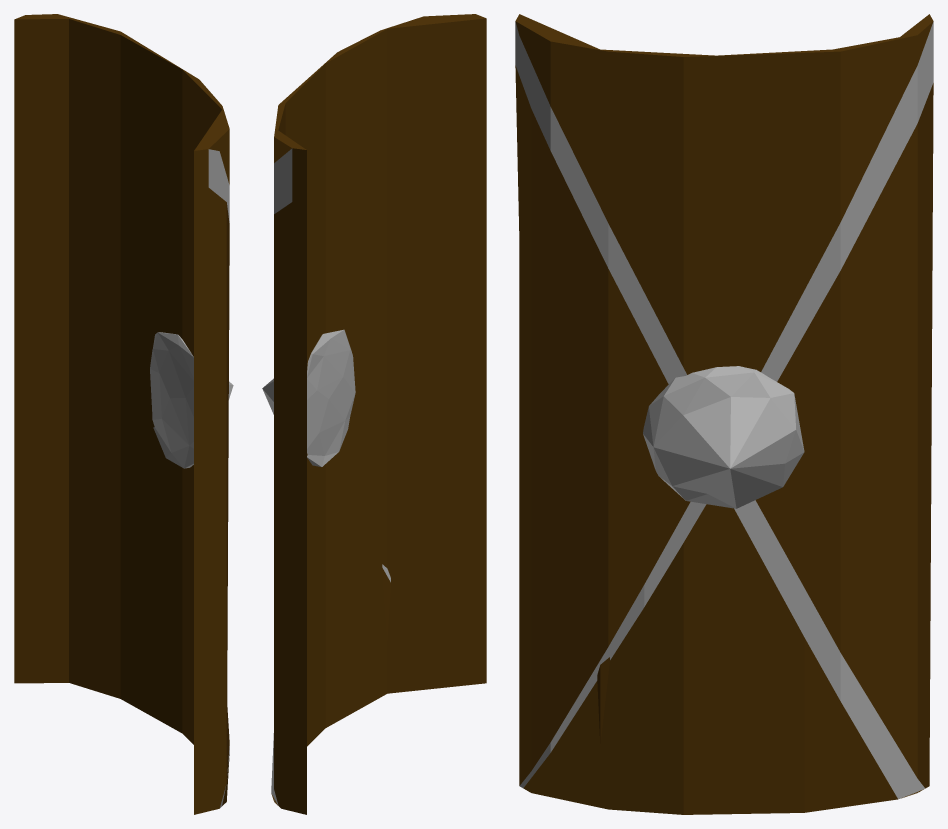
Rendered from Shield.glb.
3 renders of one model, left to right at view 1: azimuth 30°, elevation 25°; view 2: azimuth 150°, elevation 25°; view 3: azimuth 270°, elevation 25°, orthographic. The views are drawn at different scales.
Visible parts, largest first — view 1: Shield; view 2: Shield; view 3: Shield.
Part boxes in pixels (x1,y1,x2,y2): Shield: [14, 14, 233, 814]; Shield: [262, 14, 486, 814]; Shield: [515, 14, 933, 814].
Bounding box in the file's own units: 0.2535 × 1.22 × 0.6096.
